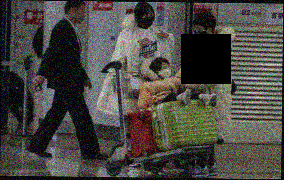with_mask: (192, 25, 209, 42), (141, 12, 156, 28), (158, 64, 173, 79)
without_mask: (74, 7, 87, 25)
